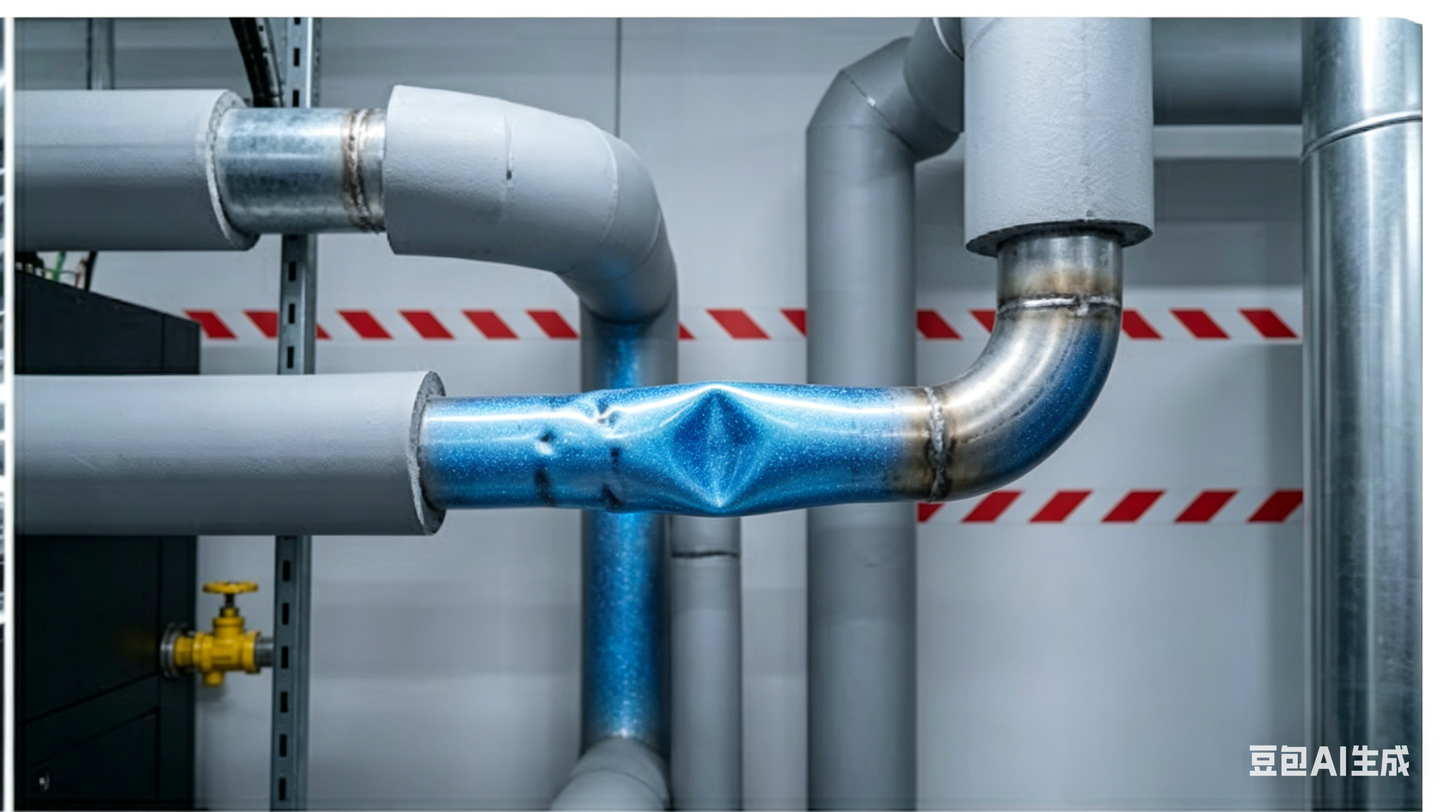Leakage: (502, 384, 637, 508), (655, 382, 781, 514)
